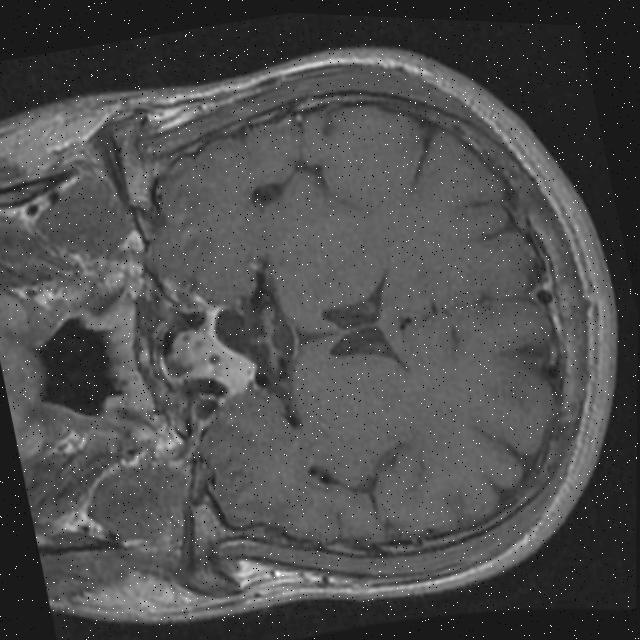Pituitary: (157, 300, 264, 413)
